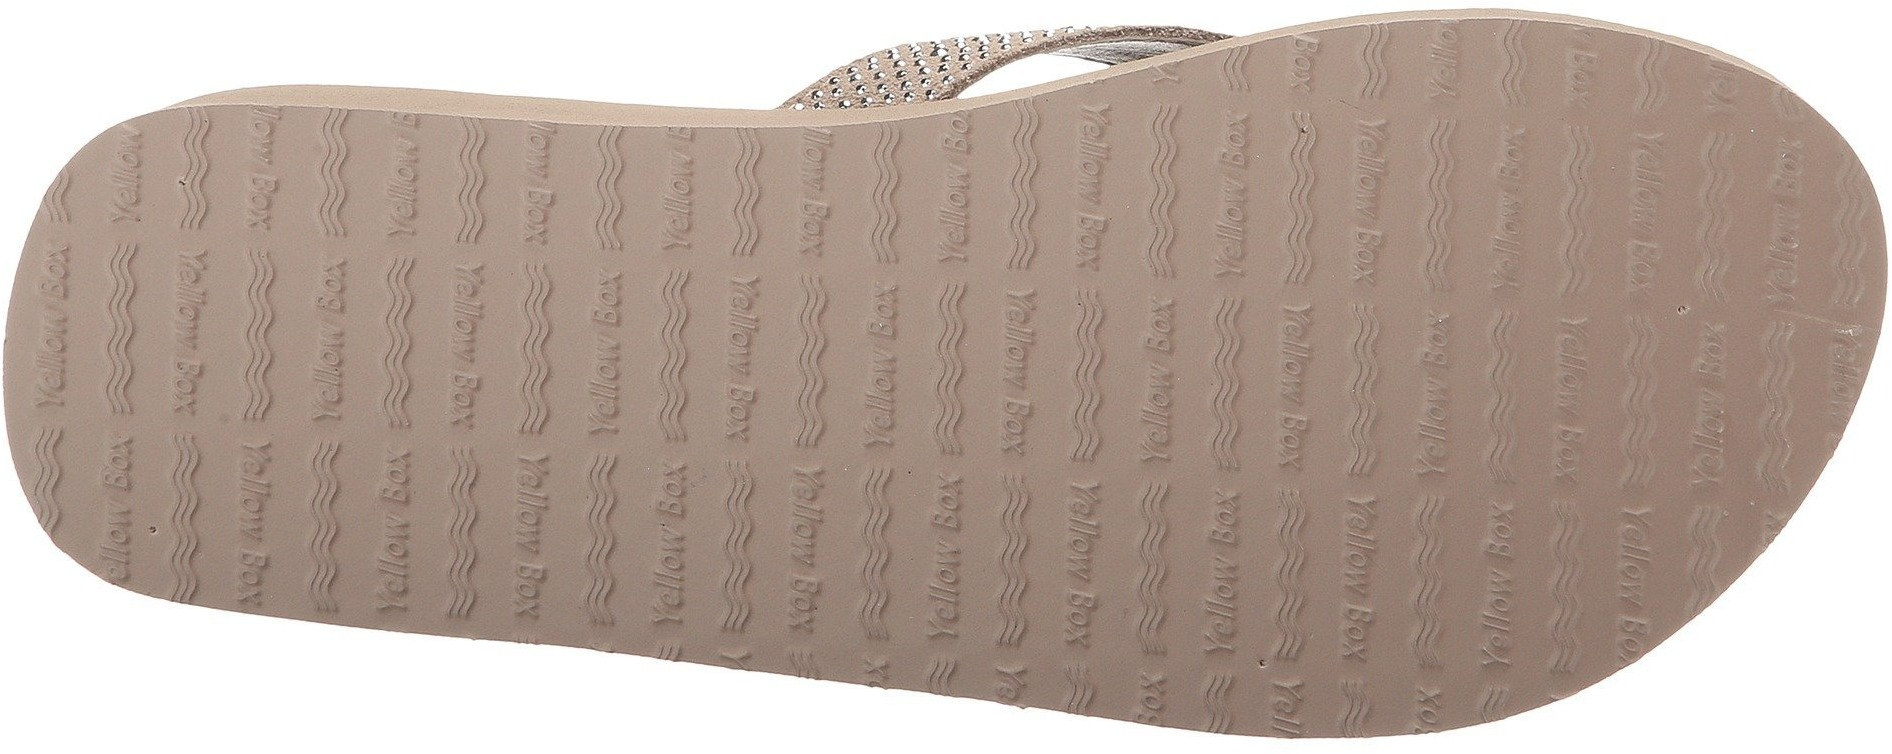chevron: (647, 129, 1182, 629), (1182, 111, 1690, 577), (157, 127, 647, 600)
text: (647, 129, 1182, 629), (1182, 111, 1690, 577), (157, 127, 647, 600)
